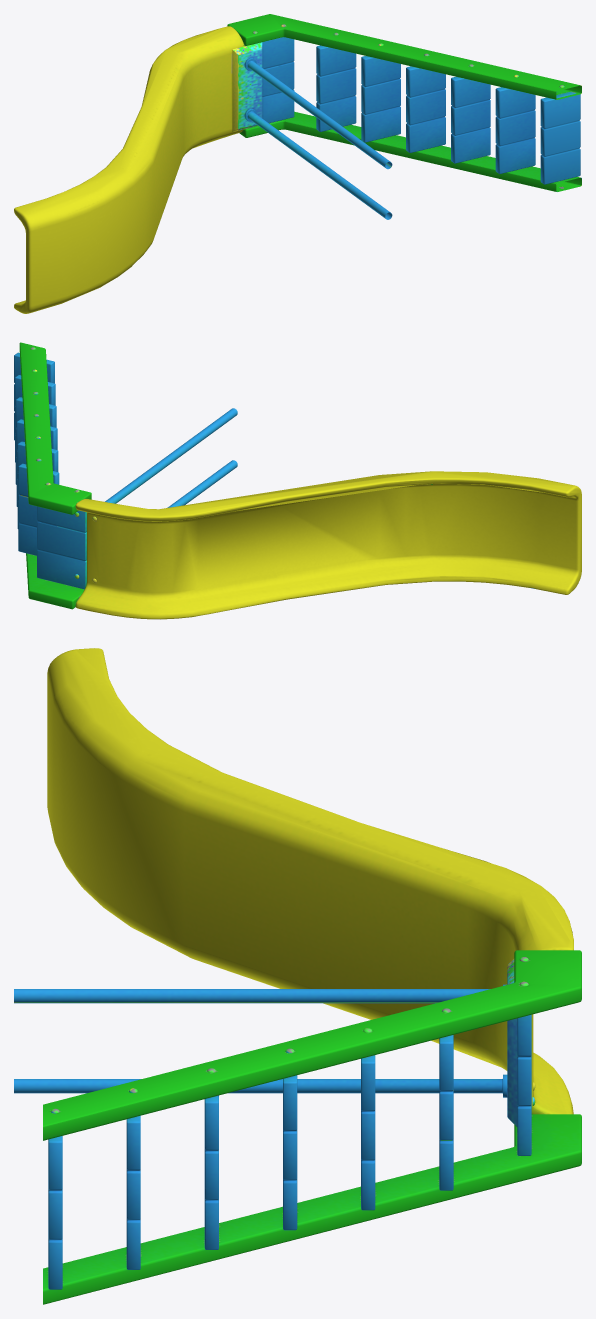
File: Slide.fbx
3 renders of one model, top to bottom at view 1: azimuth 30°, elevation 25°; view 2: azimuth 150°, elevation 25°; view 3: azimuth 270°, elevation 25°, orthographic. The views are drawn at different scales.
Parts seen in each view (by area): view 1: Slide; view 2: Slide; view 3: Slide.
Part boxes in pixels (x1,y1,x2,y2): Slide: (14,14,581,313); Slide: (14,342,581,619); Slide: (14,648,581,1304).
Size of the model in its own units: 1451 by 260 by 727.
Materials: 5 (5 with a texture image).
